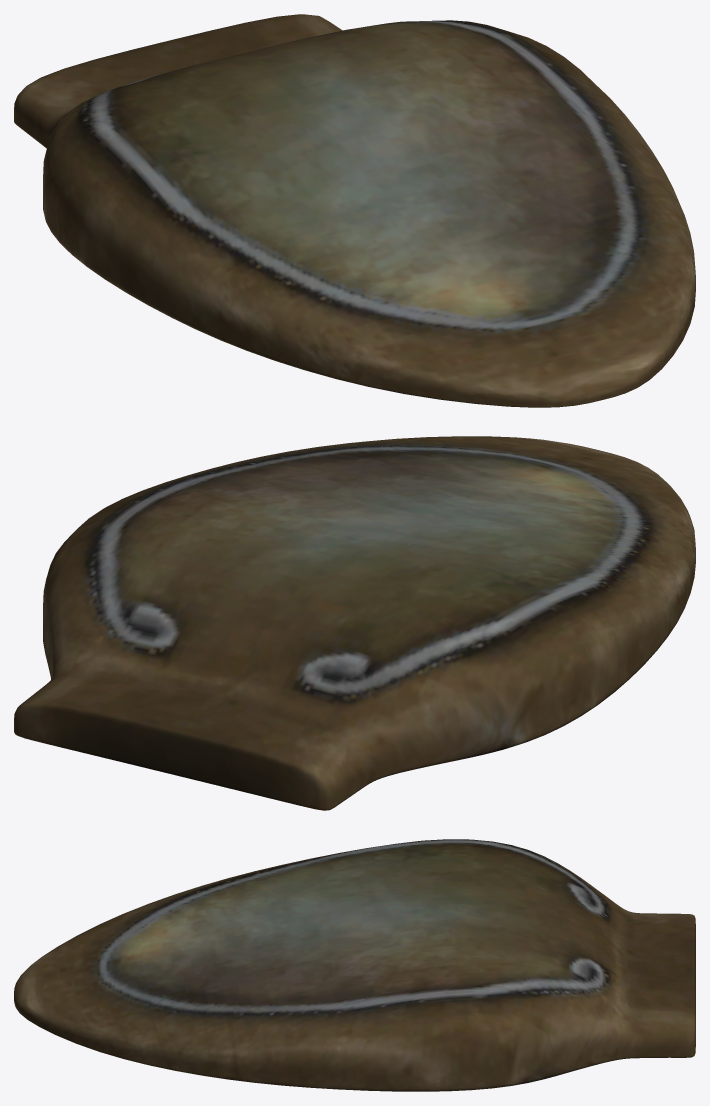
File: furniture.gltf
3 renders of one model, top to bottom at view 1: azimuth 30°, elevation 25°; view 2: azimuth 150°, elevation 25°; view 3: azimuth 270°, elevation 25°, orthographic. The views are drawn at different scales.
Visible parts, largest first — view 1: furniture; view 2: furniture; view 3: furniture.
Boxes of the visible parts, left/top/right/bottom form: furniture: left=14, top=14, right=695, bottom=407; furniture: left=14, top=436, right=695, bottom=810; furniture: left=14, top=839, right=695, bottom=1091.
Bounding box in the file's own units: 0.3885 × 0.0822 × 0.5668.
Materials: 1 (1 with a texture image).
